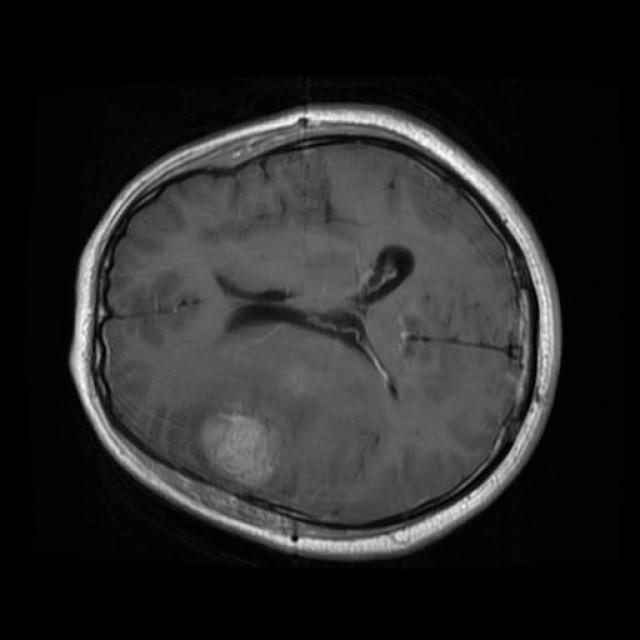Meningioma: (202, 412, 276, 488)
